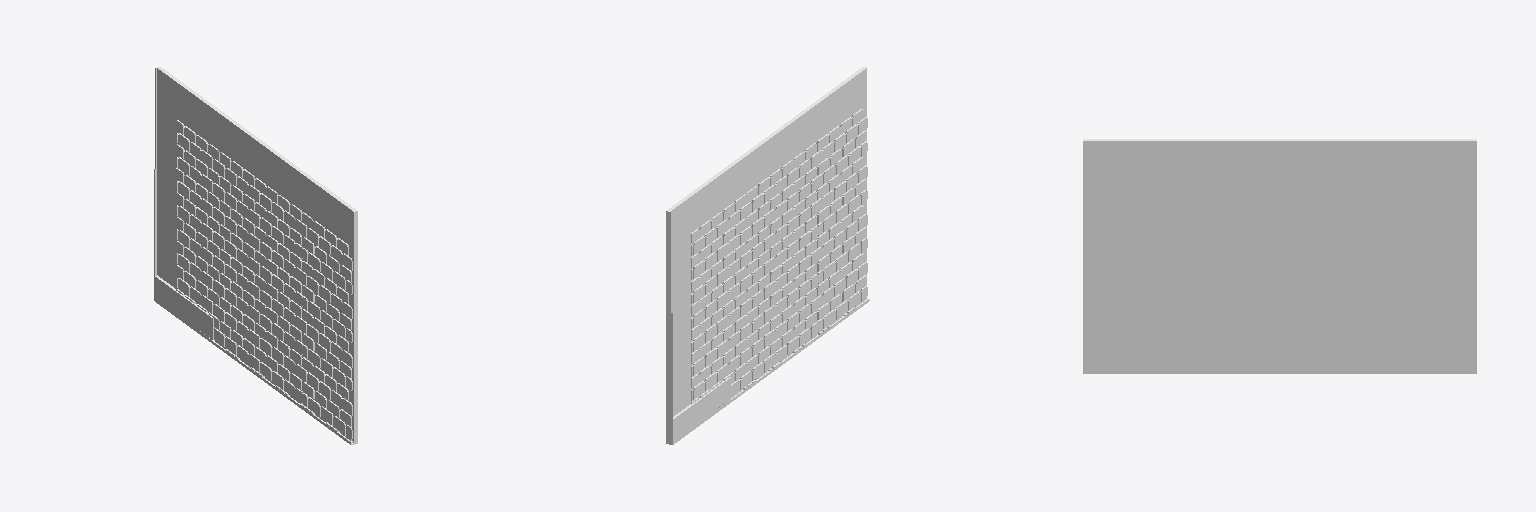
File: Bar1-10.obj
3 renders of one model, left to right at view 1: azimuth 30°, elevation 25°; view 2: azimuth 150°, elevation 25°; view 3: azimuth 270°, elevation 25°, orthographic.
Visible parts, largest first — view 1: object 1; view 2: object 1; view 3: object 1.
Boxes of the visible parts, <box> form: object 1: <box>154,67,357,444</box>; object 1: <box>666,67,869,444</box>; object 1: <box>1083,139,1476,373</box>.
Size of the model in its own units: 0.5 by 16.4 by 25.2.